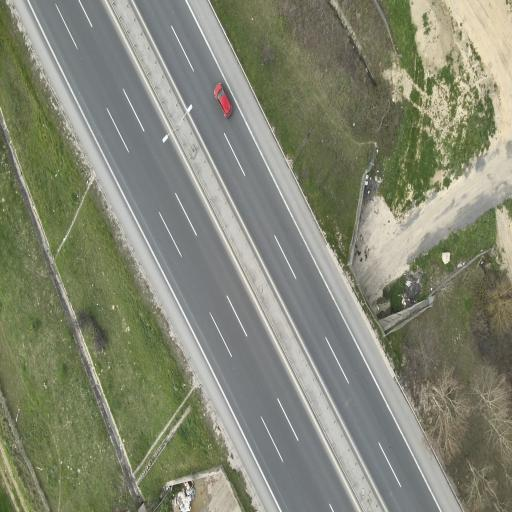car: (214, 83, 233, 118)
